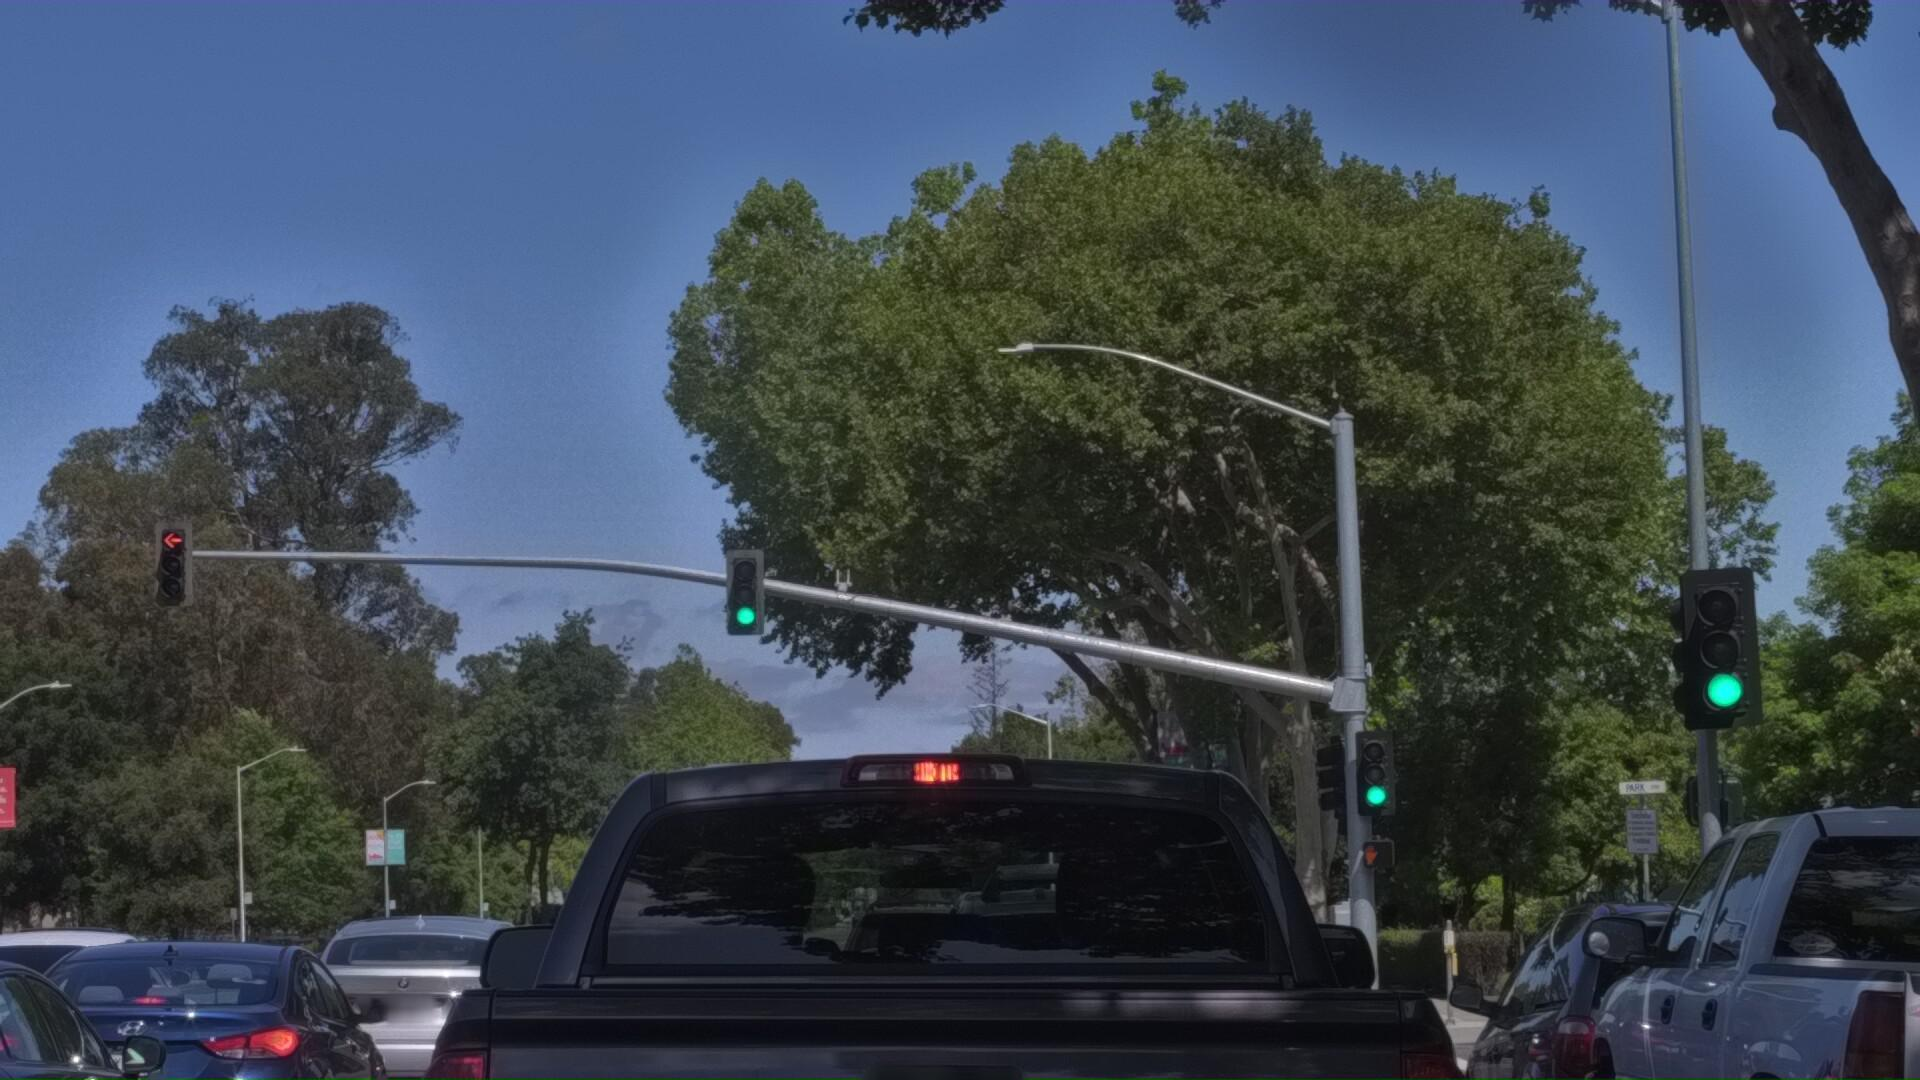car: (332, 495, 1648, 1080), (1506, 760, 1920, 1080), (884, 868, 1375, 1080), (1403, 886, 1920, 1080), (0, 951, 422, 1080), (298, 938, 600, 1080), (0, 949, 251, 1080), (0, 940, 207, 1080)
